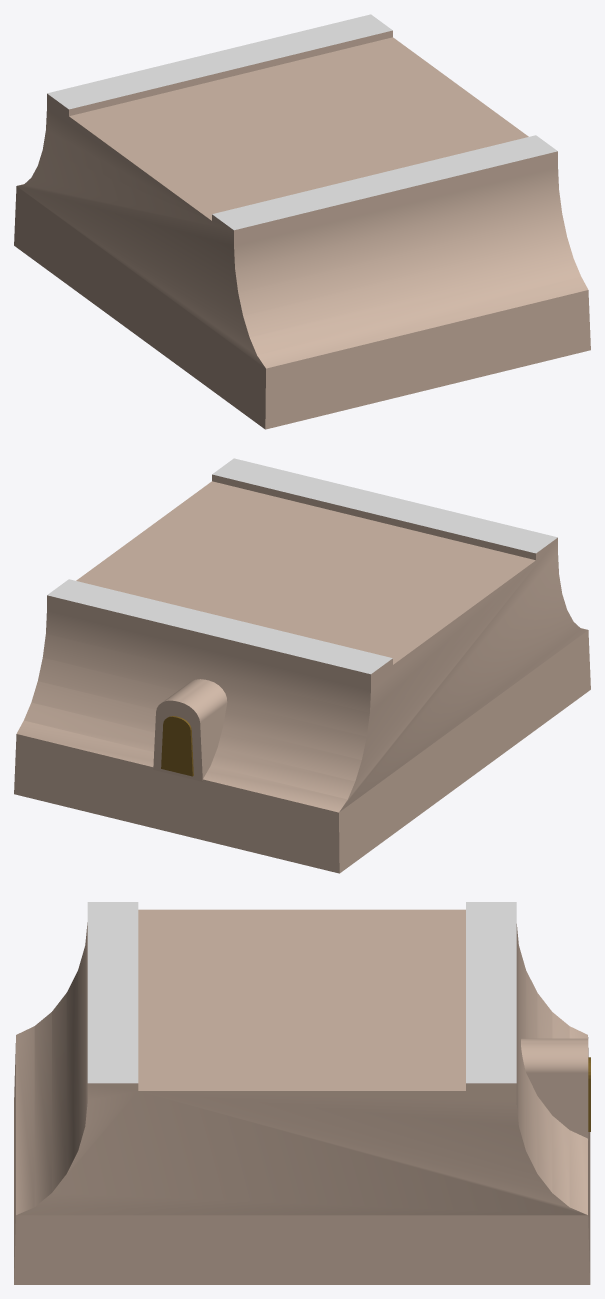
The model's file is DustCityHouse_I.fbx.
3 views of the same model, one above another, from view 1: azimuth 30°, elevation 25°; view 2: azimuth 150°, elevation 25°; view 3: azimuth 270°, elevation 25° (orthographic). The views are drawn at different scales.
Parts seen in each view (by area): view 1: DCHouse_I; view 2: DCHouse_I, HouseDoor; view 3: DCHouse_I, HouseDoor.
Part boxes in pixels (<box>): DCHouse_I: <box>14,14,590,429</box>; DCHouse_I: <box>14,458,590,873</box>; HouseDoor: <box>153,679,227,781</box>; DCHouse_I: <box>14,902,590,1284</box>; HouseDoor: <box>521,1038,590,1140</box>.
Size of the model in its own units: 151 by 77.66 by 202.
